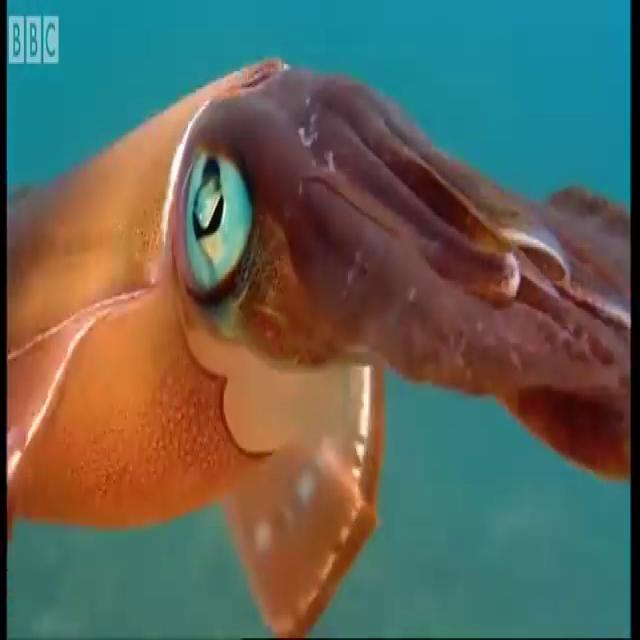squid: (8, 59, 630, 640)
